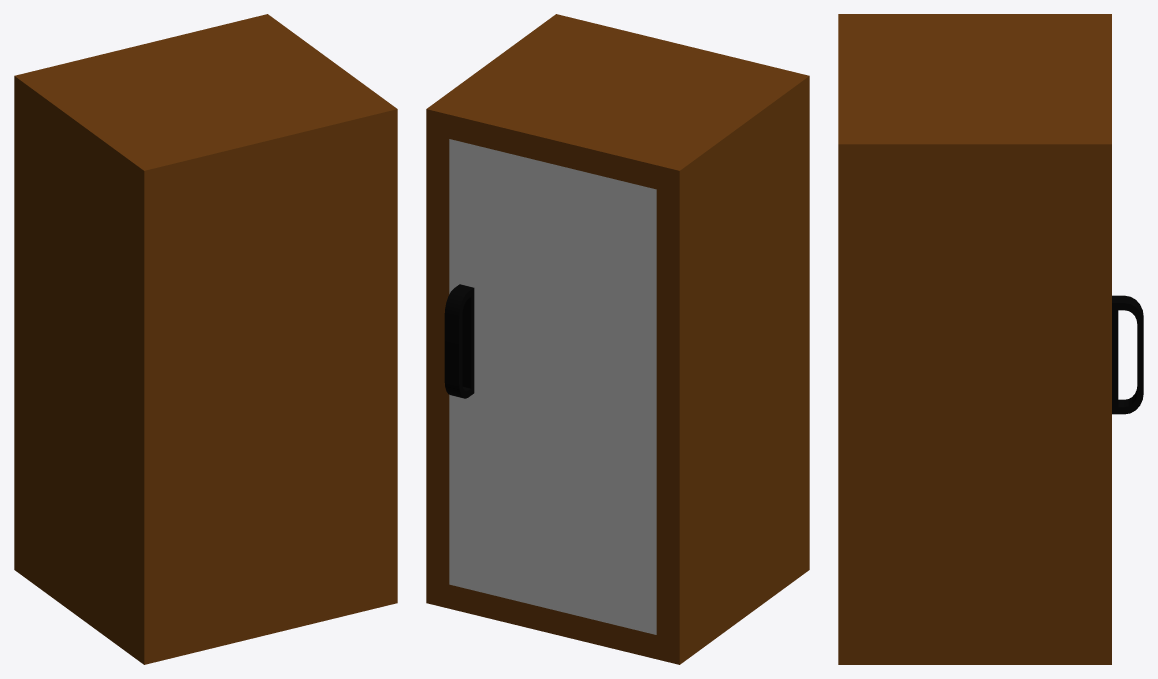
File: cabinet.fbx
3 renders of one model, left to right at view 1: azimuth 30°, elevation 25°; view 2: azimuth 150°, elevation 25°; view 3: azimuth 270°, elevation 25°, orthographic. The views are drawn at different scales.
Parts seen in each view (by area): view 1: cabinet; view 2: cabinet; view 3: cabinet.
Boxes of the visible parts, <box> form: cabinet: <box>14,14,397,664</box>; cabinet: <box>426,14,809,664</box>; cabinet: <box>838,14,1143,664</box>.
Bounding box in the file's own units: 53.69 × 100 × 53.19.
